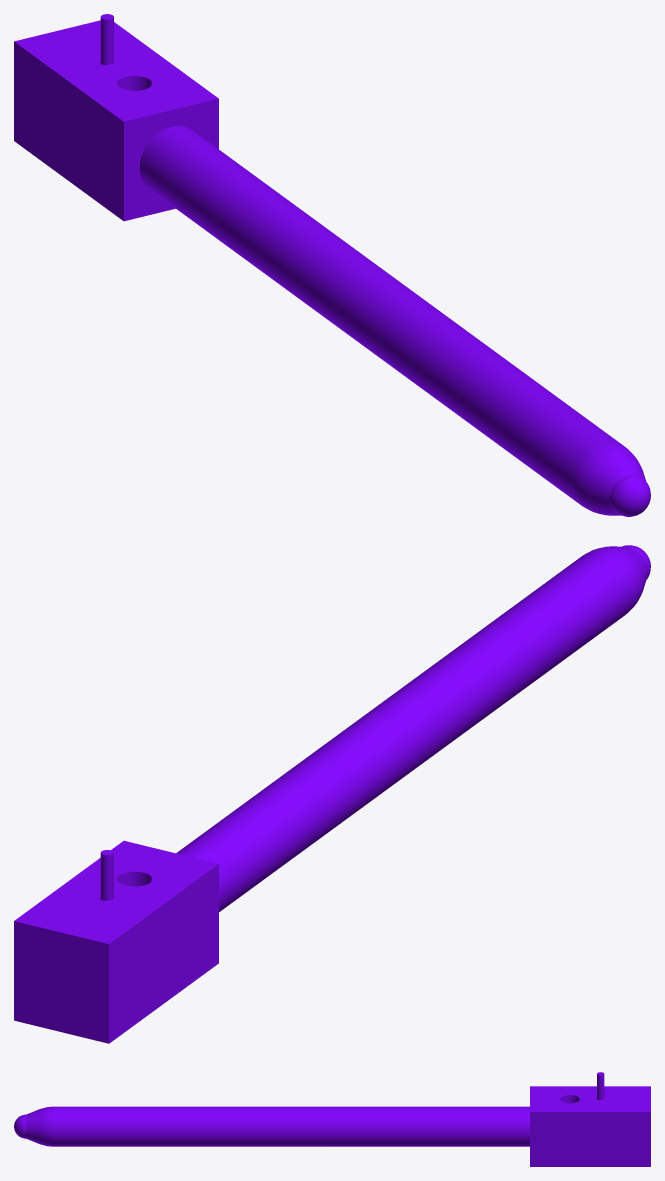
Rendered from Stylus.obj.
The picture shows the model from 3 angles, top to bottom: view 1: azimuth 30°, elevation 25°; view 2: azimuth 150°, elevation 25°; view 3: azimuth 270°, elevation 25°; orthographic projection. The views are drawn at different scales.
Parts seen in each view (by area): view 1: Stylus\Solid; view 2: Stylus\Solid; view 3: Stylus\Solid.
Boxes of the visible parts, left/top/right/bottom form: Stylus\Solid: left=14, top=14, right=650, bottom=516; Stylus\Solid: left=14, top=545, right=650, bottom=1043; Stylus\Solid: left=14, top=1072, right=650, bottom=1166.
Size of the model in its own units: 15 by 22 by 158.
